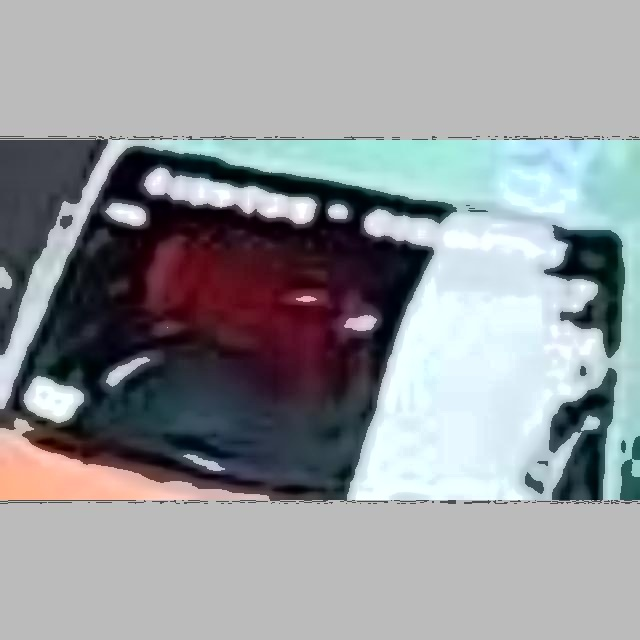tidak-pakai: (95, 194, 395, 406)
